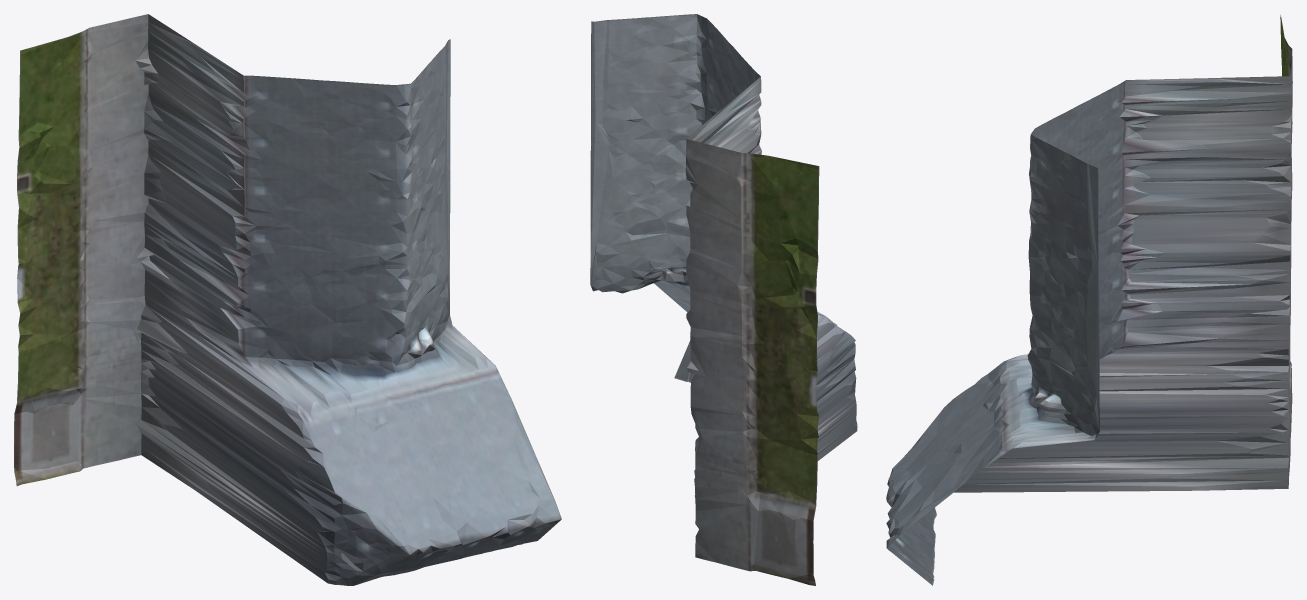
The model's file is map_20_100.obj.
3 views of the same model, side by side, from view 1: azimuth 30°, elevation 25°; view 2: azimuth 150°, elevation 25°; view 3: azimuth 270°, elevation 25° (orthographic). The views are drawn at different scales.
Parts seen in each view (by area): view 1: grp1; view 2: grp1; view 3: grp1.
Part boxes in pixels (x1,y1,x2,y2): grp1: [14, 14, 561, 585]; grp1: [590, 14, 857, 585]; grp1: [886, 15, 1292, 585].
Size of the model in its own units: 8 by 10 by 8.85.
Materials: 1 (1 with a texture image).
